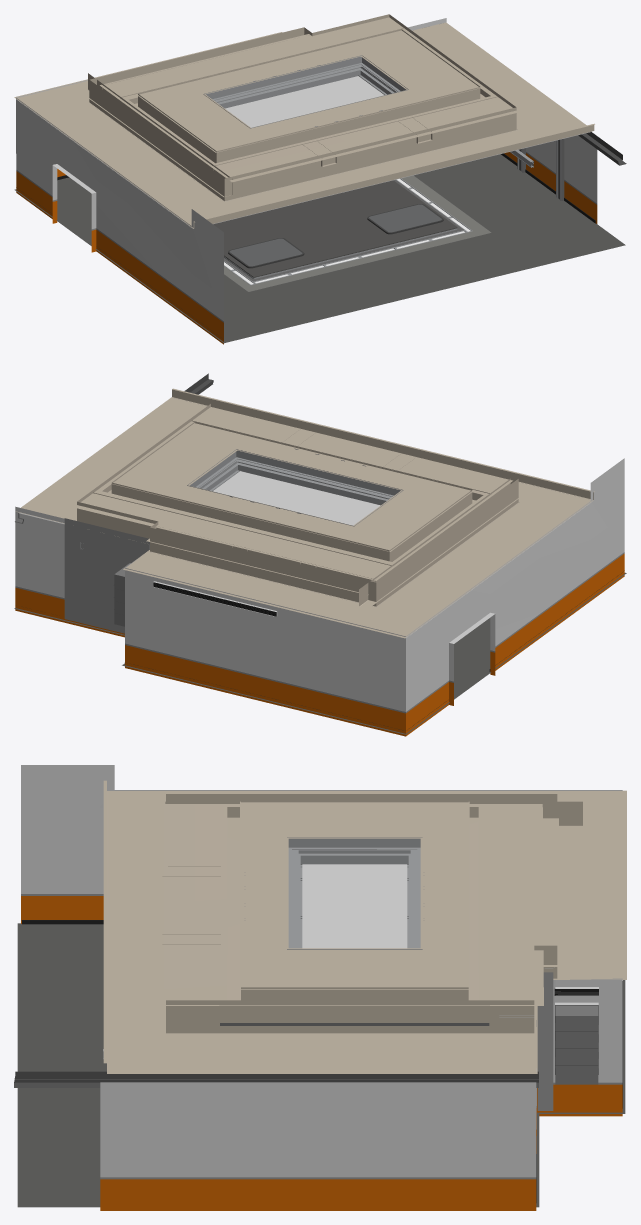
The model's file is SM_H_Building_Tide_Examinationroom_02_ATLAS.fbx.
3 views of the same model, one above another, from view 1: azimuth 30°, elevation 25°; view 2: azimuth 150°, elevation 25°; view 3: azimuth 270°, elevation 25° (orthographic). The views are drawn at different scales.
Visible parts, largest first — view 1: SM_H_Building_Tide_Examinationroom_02_ATLAS; view 2: SM_H_Building_Tide_Examinationroom_02_ATLAS; view 3: SM_H_Building_Tide_Examinationroom_02_ATLAS.
Part boxes in pixels (<box>): SM_H_Building_Tide_Examinationroom_02_ATLAS: <box>14,14,626,344</box>; SM_H_Building_Tide_Examinationroom_02_ATLAS: <box>14,373,626,736</box>; SM_H_Building_Tide_Examinationroom_02_ATLAS: <box>14,765,626,1210</box>.
Bounding box in the file's own units: 2162 × 1954 × 617.
